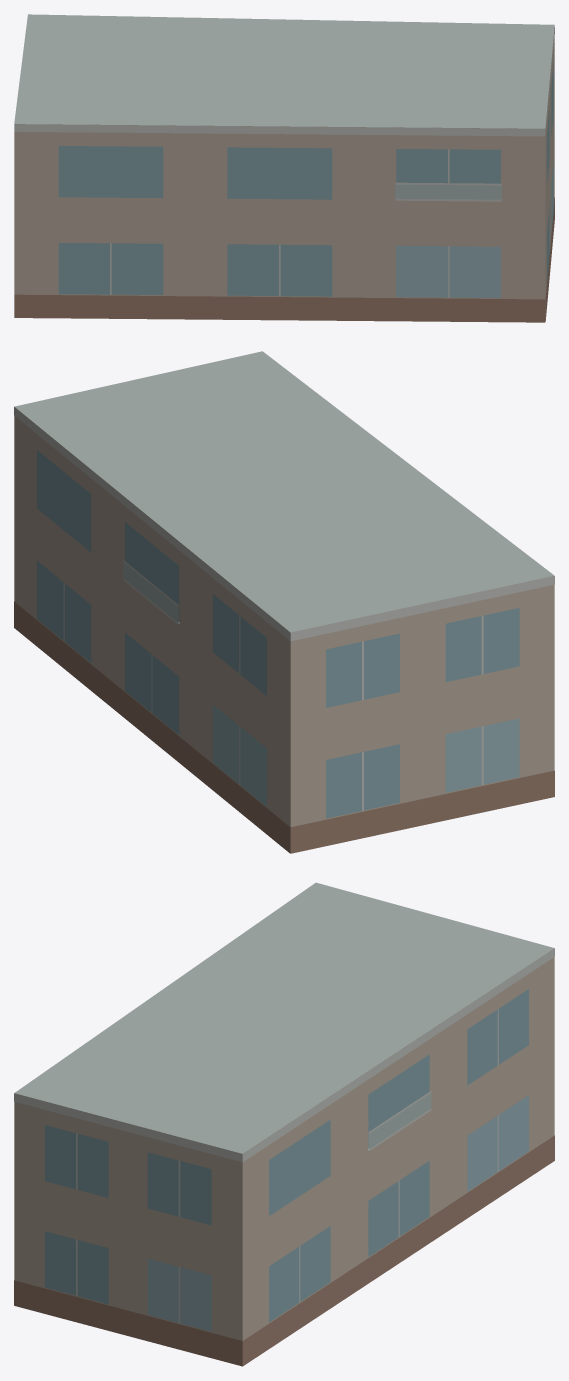
Rendered from survey-upis-32795841.glb.
3 renders of one model, top to bottom at view 1: azimuth 30°, elevation 25°; view 2: azimuth 150°, elevation 25°; view 3: azimuth 270°, elevation 25°, orthographic. The views are drawn at different scales.
Visible parts, largest first — view 1: survey-upis-32795841.tmp; view 2: survey-upis-32795841.tmp; view 3: survey-upis-32795841.tmp.
Boxes of the visible parts, left/top/right/bottom form: survey-upis-32795841.tmp: left=14, top=14, right=554, bottom=322; survey-upis-32795841.tmp: left=14, top=351, right=554, bottom=853; survey-upis-32795841.tmp: left=14, top=882, right=554, bottom=1366.
Bounding box in the file's own units: 16.71 × 6.1 × 14.07.
